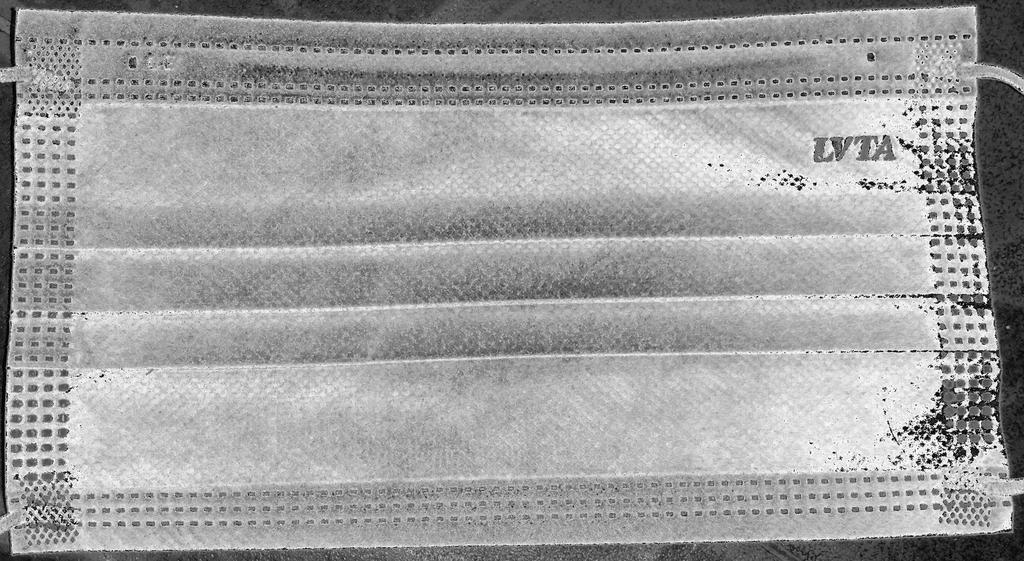High GSM: (4, 5, 1018, 546)
